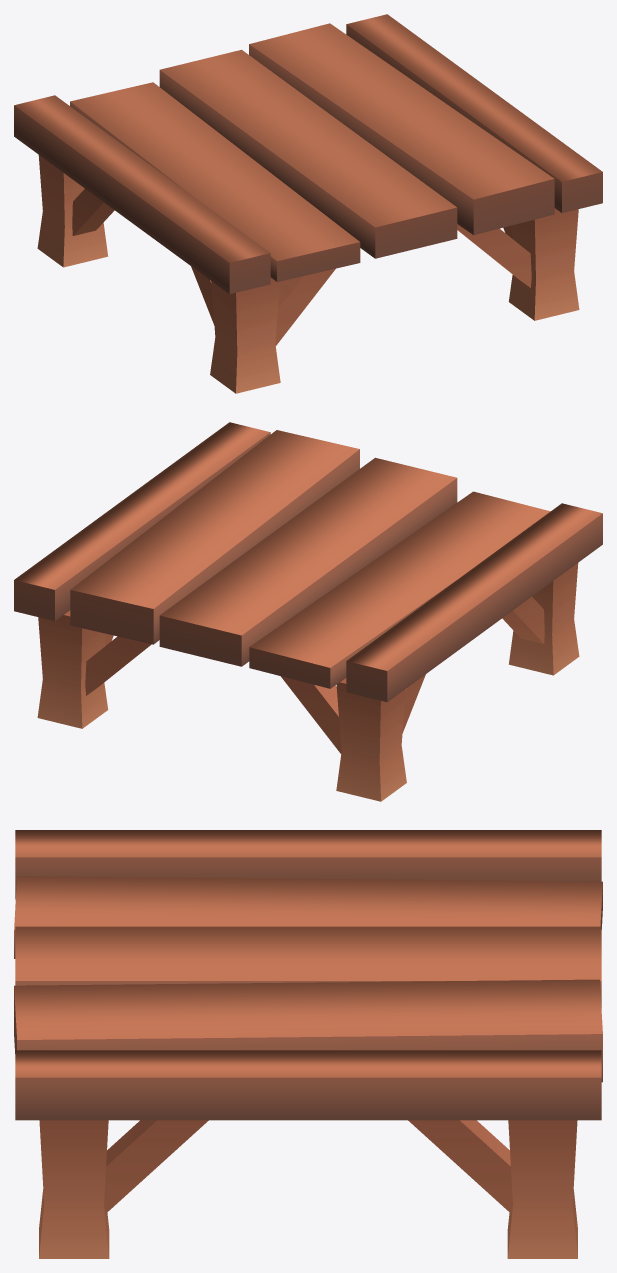
The model's file is structure-platform.glb.
3 renders of one model, top to bottom at view 1: azimuth 30°, elevation 25°; view 2: azimuth 150°, elevation 25°; view 3: azimuth 270°, elevation 25°, orthographic. The views are drawn at different scales.
Visible parts, largest first — view 1: structure-platform; view 2: structure-platform; view 3: structure-platform.
Boxes of the visible parts, bbox=[...] form: structure-platform: bbox=[14, 14, 602, 393]; structure-platform: bbox=[14, 422, 602, 801]; structure-platform: bbox=[14, 830, 602, 1258].
Bounding box in the file's own units: 2.5 × 0.9279 × 2.51.
Materials: 1 (1 with a texture image).
